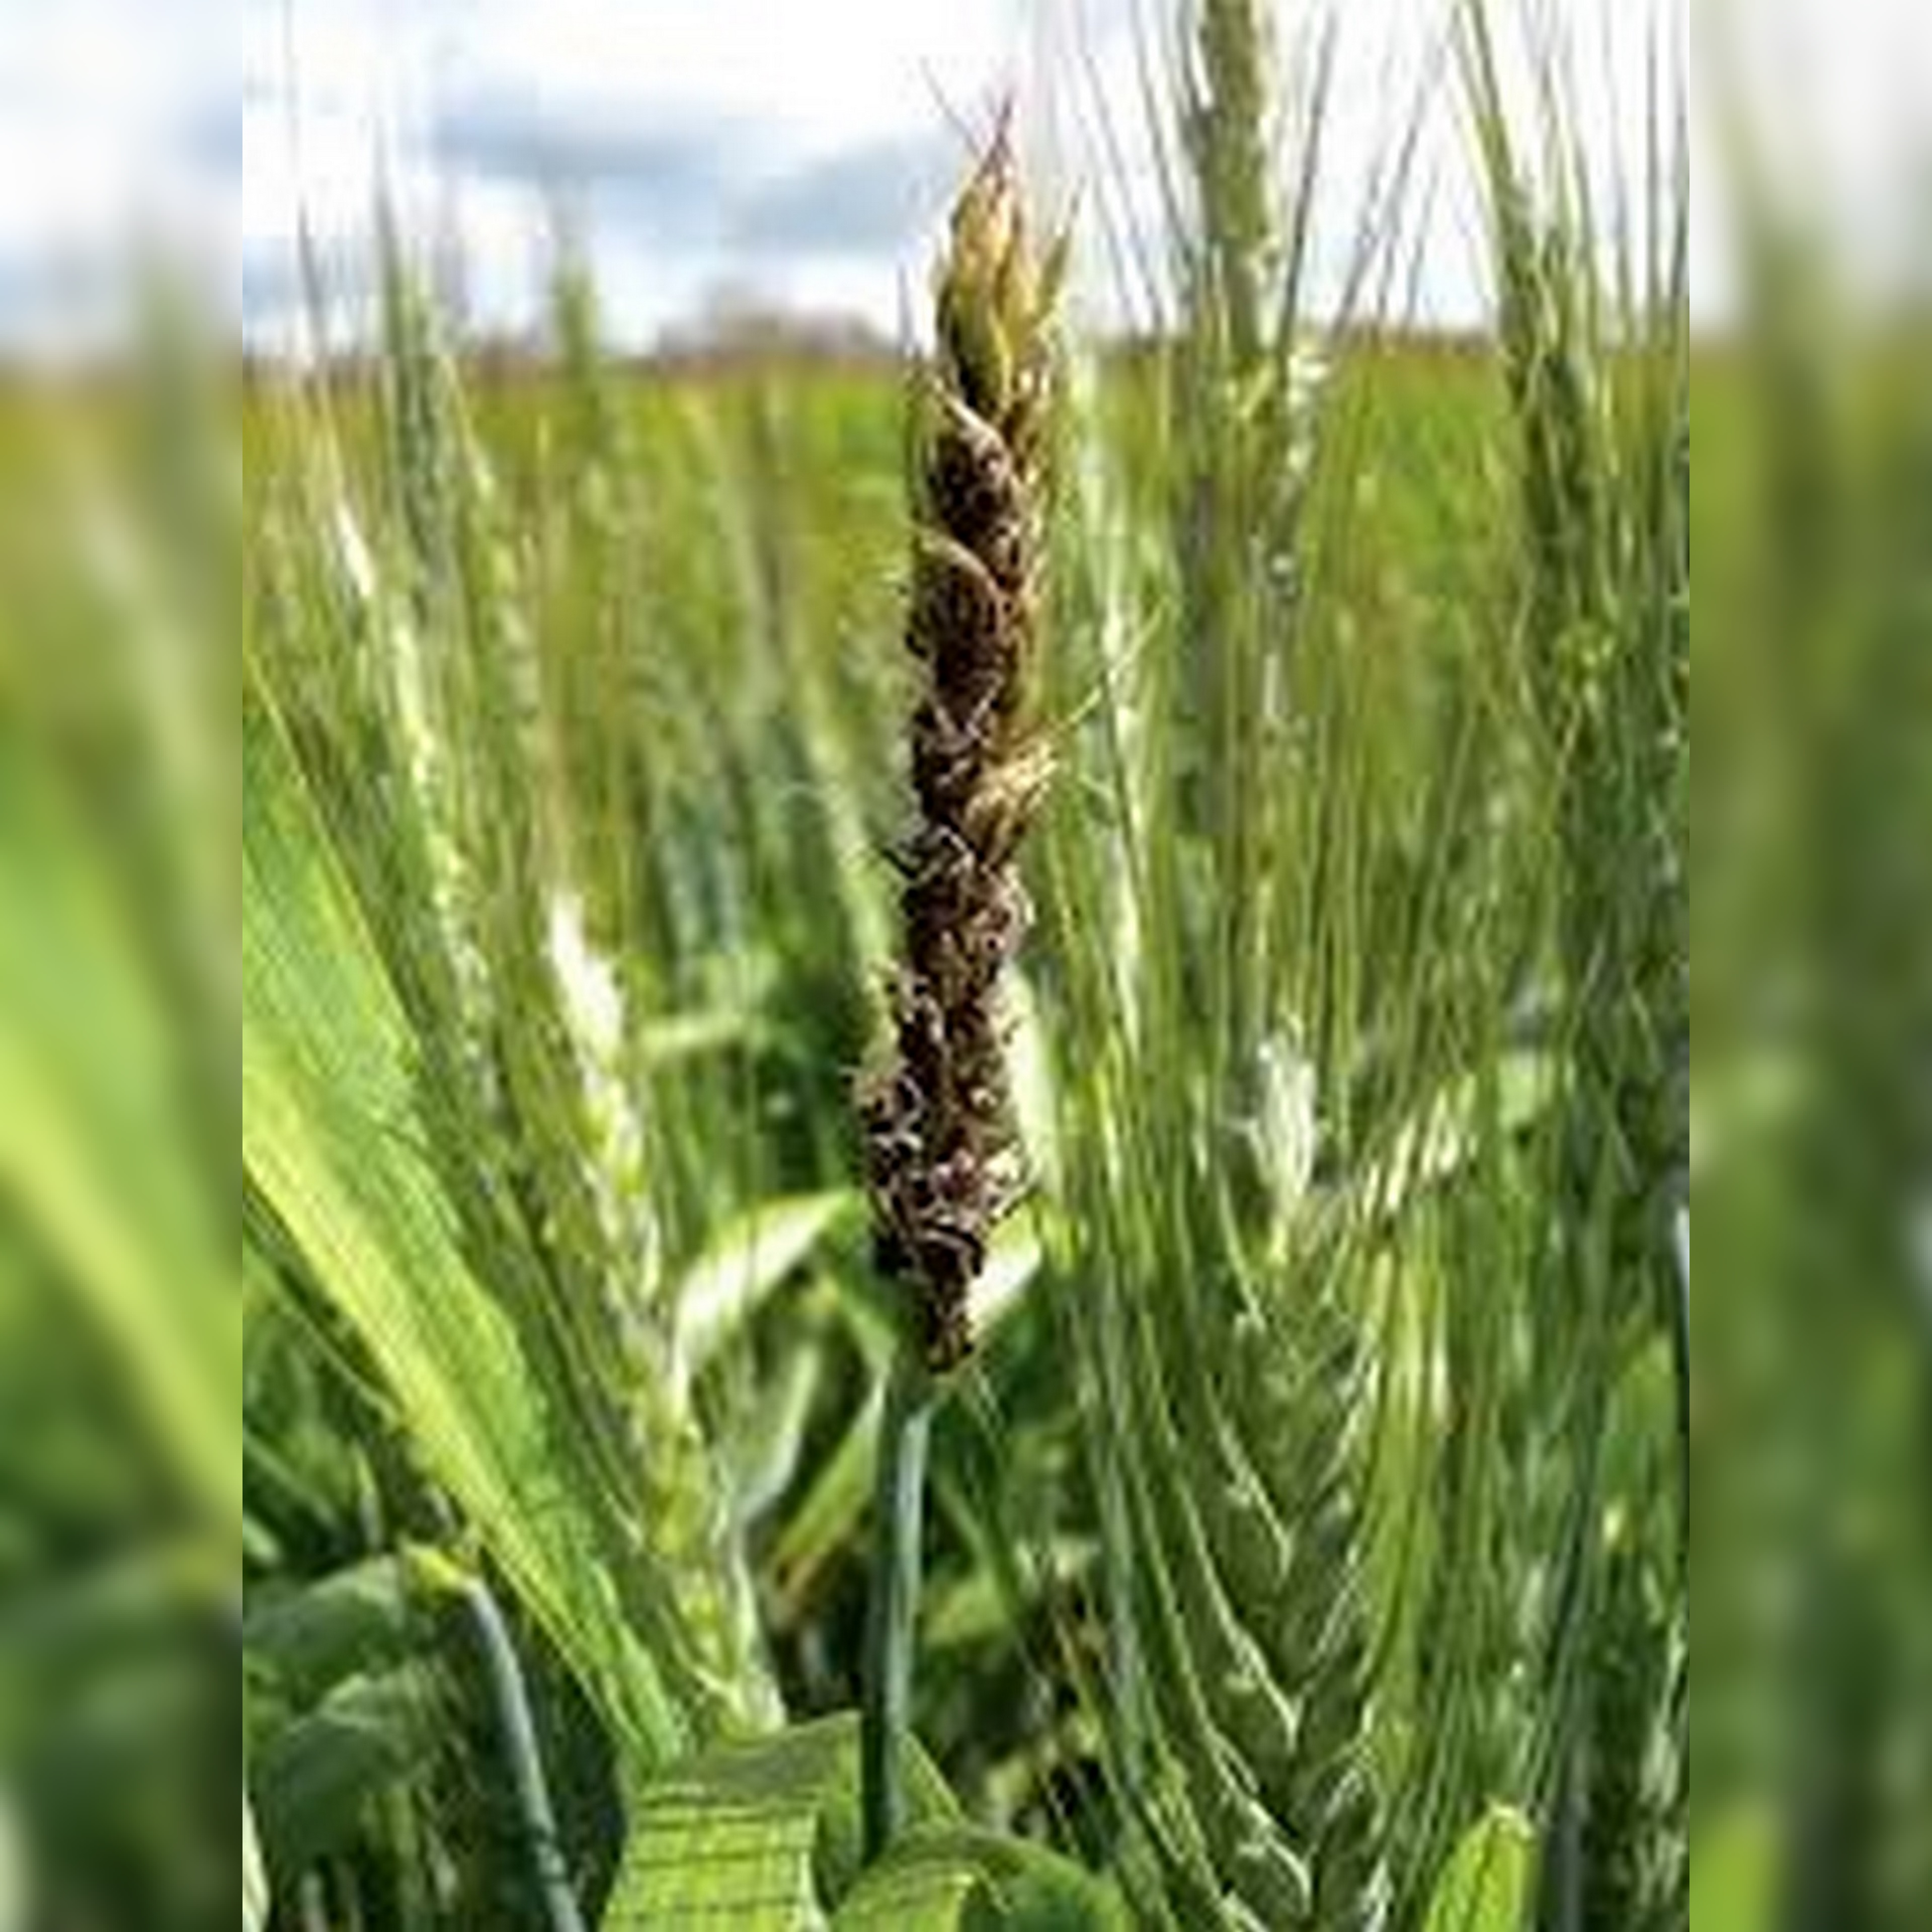Wheat Loose Smut: (824, 198, 1067, 1350)
